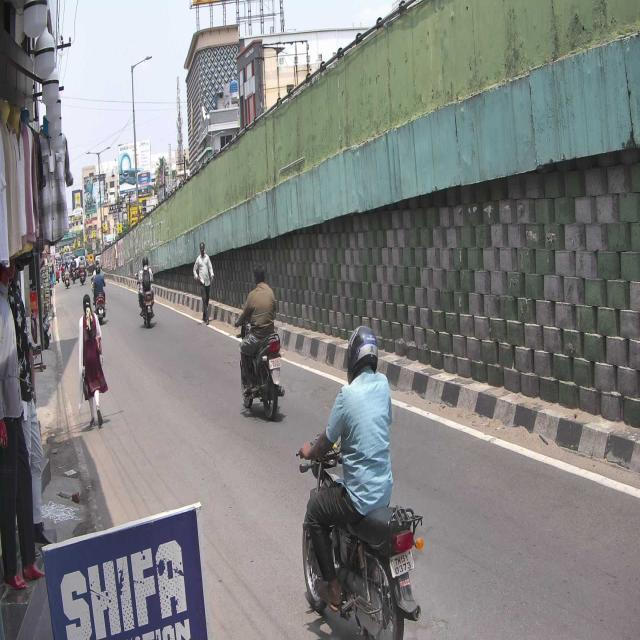single_rider: (296, 322, 423, 640), (233, 263, 286, 420)
